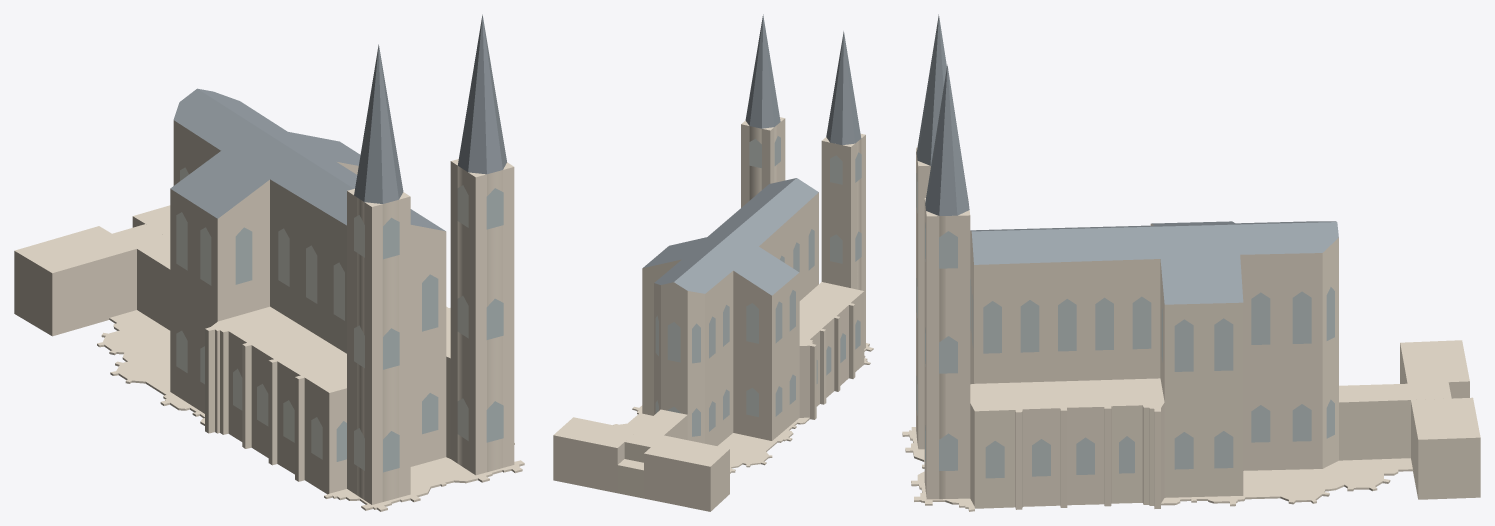
The picture shows the model from 3 angles, left to right: view 1: azimuth 30°, elevation 25°; view 2: azimuth 150°, elevation 25°; view 3: azimuth 270°, elevation 25°; orthographic projection. The views are drawn at different scales.
Parts seen in each view (by area): view 1: stone, roof, window; view 2: stone, roof, window; view 3: stone, roof, window.
Part boxes in pixels (bbox=[...]): stone: bbox=[14, 120, 524, 511]; roof: bbox=[170, 14, 506, 231]; window: bbox=[176, 167, 503, 472]; stone: bbox=[553, 117, 873, 511]; roof: bbox=[643, 14, 861, 295]; window: bbox=[655, 136, 861, 436]; stone: bbox=[902, 147, 1480, 511]; roof: bbox=[916, 14, 1338, 304]; window: bbox=[916, 173, 1334, 478].
Size of the model in its own units: 31.97 by 57 by 69.88.
